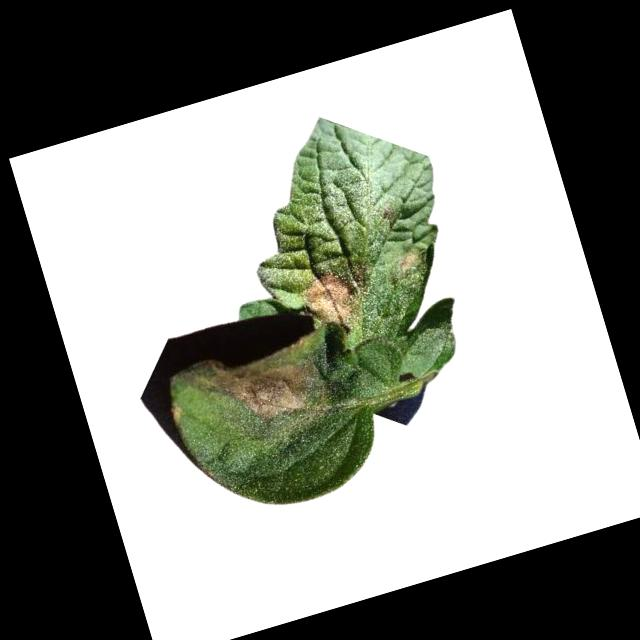Late_blight: (176, 331, 328, 448), (296, 256, 383, 347), (396, 246, 426, 278)
